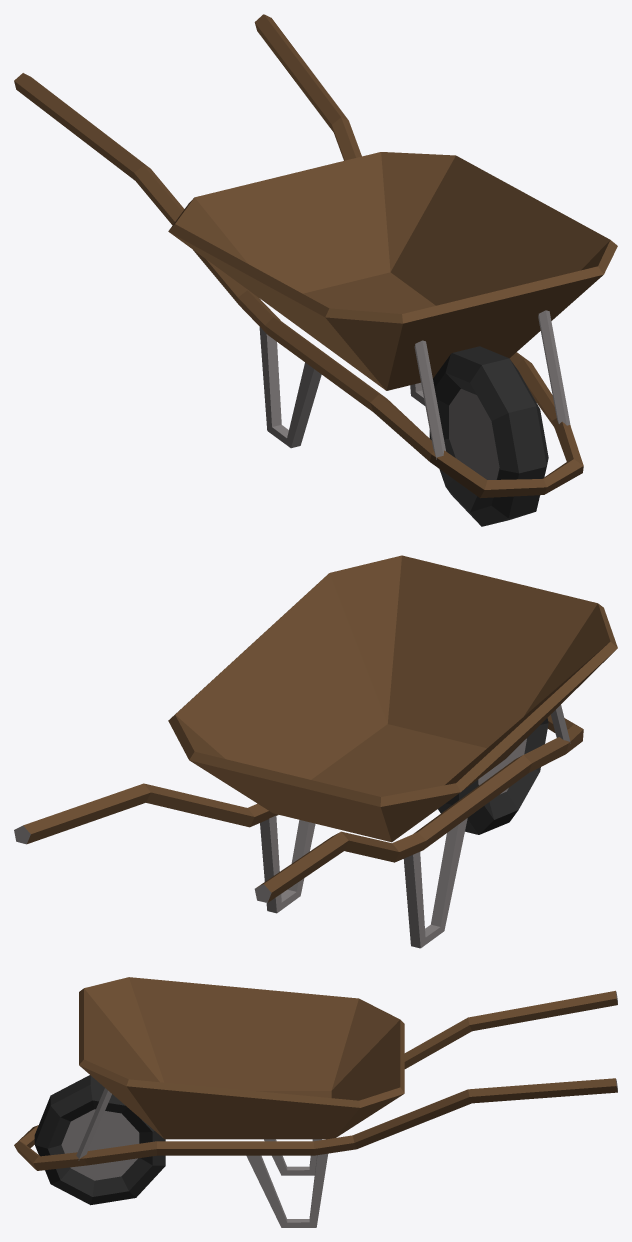
The model's file is wheels.glb.
3 renders of one model, top to bottom at view 1: azimuth 30°, elevation 25°; view 2: azimuth 150°, elevation 25°; view 3: azimuth 270°, elevation 25°, orthographic. The views are drawn at different scales.
Visible parts, largest first — view 1: wheels; view 2: wheels; view 3: wheels.
Part boxes in pixels (left/top/right/bottom): wheels: left=14, top=14, right=617, bottom=526; wheels: left=14, top=555, right=617, bottom=948; wheels: left=14, top=977, right=617, bottom=1227.
Size of the model in its own units: 0.6979 by 0.5388 by 1.67.
Materials: 1 (1 with a texture image).
